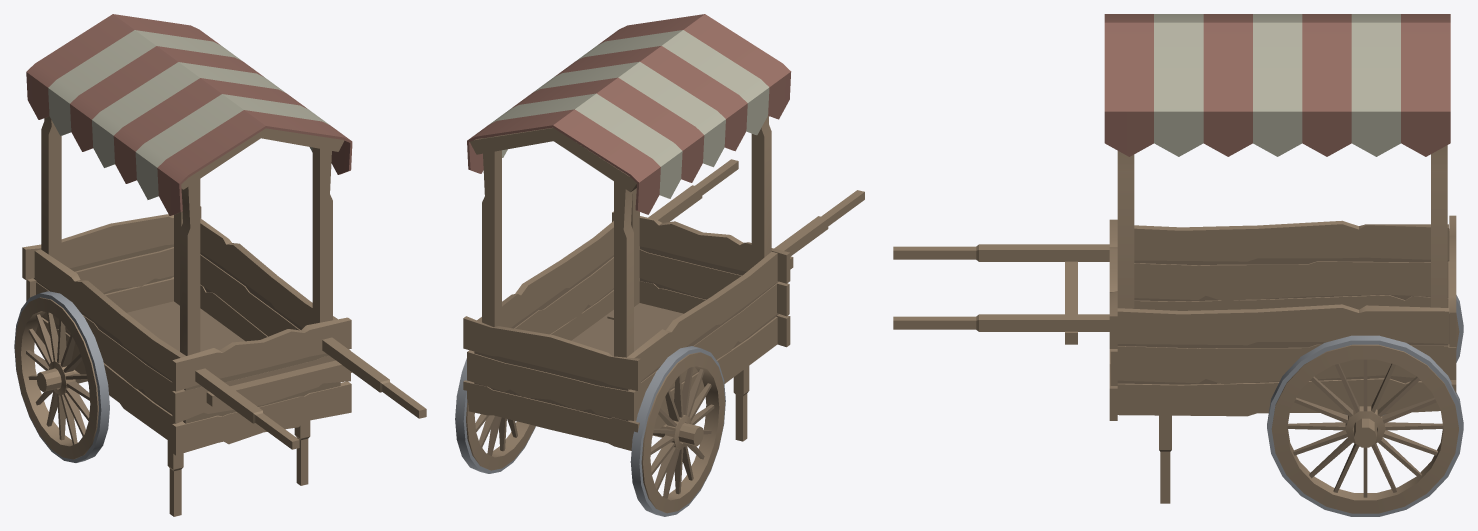
Rendered from cart.glb.
3 renders of one model, left to right at view 1: azimuth 30°, elevation 25°; view 2: azimuth 150°, elevation 25°; view 3: azimuth 270°, elevation 25°, orthographic. The views are drawn at different scales.
Parts seen in each view (by area): view 1: merged; view 2: merged; view 3: merged.
Boxes of the visible parts, x1,y1,x2,y2 form: merged: (14,14,426,516); merged: (455,14,864,516); merged: (893,14,1463,516).
Bounding box in the file's own units: 0.6468 × 1.11 × 1.3.
